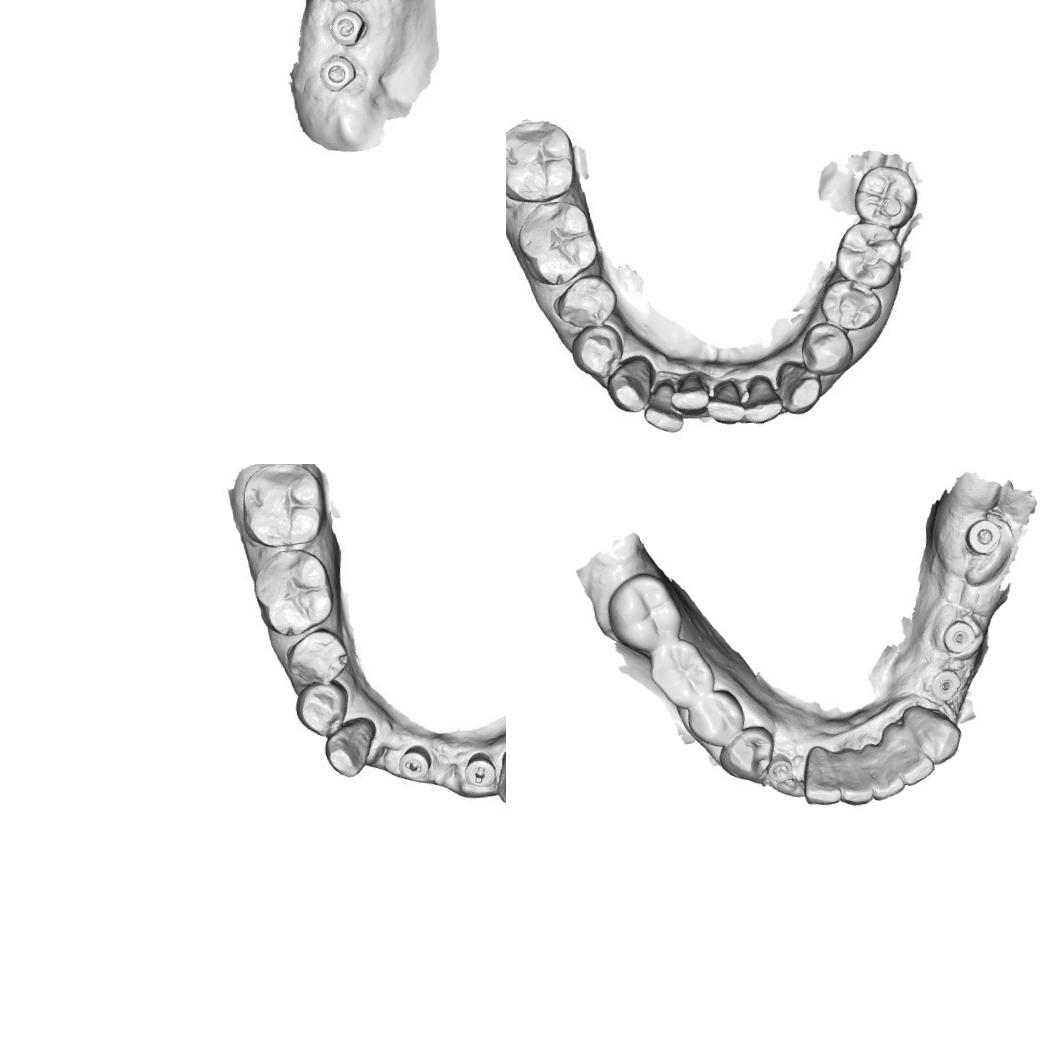canine: (896, 699, 962, 767), (319, 716, 380, 780), (604, 353, 656, 415), (776, 358, 823, 416), (492, 742, 506, 807)
implant: (316, 53, 359, 95), (960, 516, 1003, 558), (325, 6, 367, 47), (939, 617, 978, 658), (930, 665, 965, 702), (764, 752, 796, 788)
implant_minus: (395, 742, 431, 788), (460, 750, 496, 795)
incisor: (832, 741, 878, 806), (797, 744, 843, 808), (640, 379, 684, 434), (885, 740, 936, 787), (740, 373, 784, 424), (867, 744, 906, 800), (703, 377, 746, 426), (668, 370, 710, 416)
molar: (249, 545, 334, 639), (236, 464, 327, 550), (514, 198, 600, 288), (602, 568, 687, 657), (506, 114, 578, 205), (646, 636, 717, 714), (832, 218, 903, 292), (850, 162, 920, 231)
premolar: (714, 723, 780, 787), (683, 687, 746, 751), (283, 626, 349, 687), (551, 272, 619, 330), (291, 679, 354, 740), (818, 276, 884, 333), (568, 320, 626, 380), (798, 320, 856, 378)
